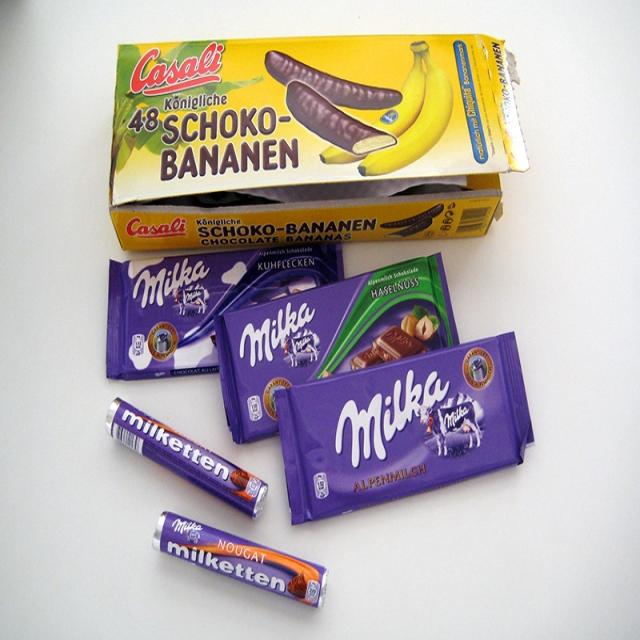milka: (334, 365, 487, 474), (237, 298, 323, 371), (130, 257, 214, 320), (173, 516, 208, 548)
